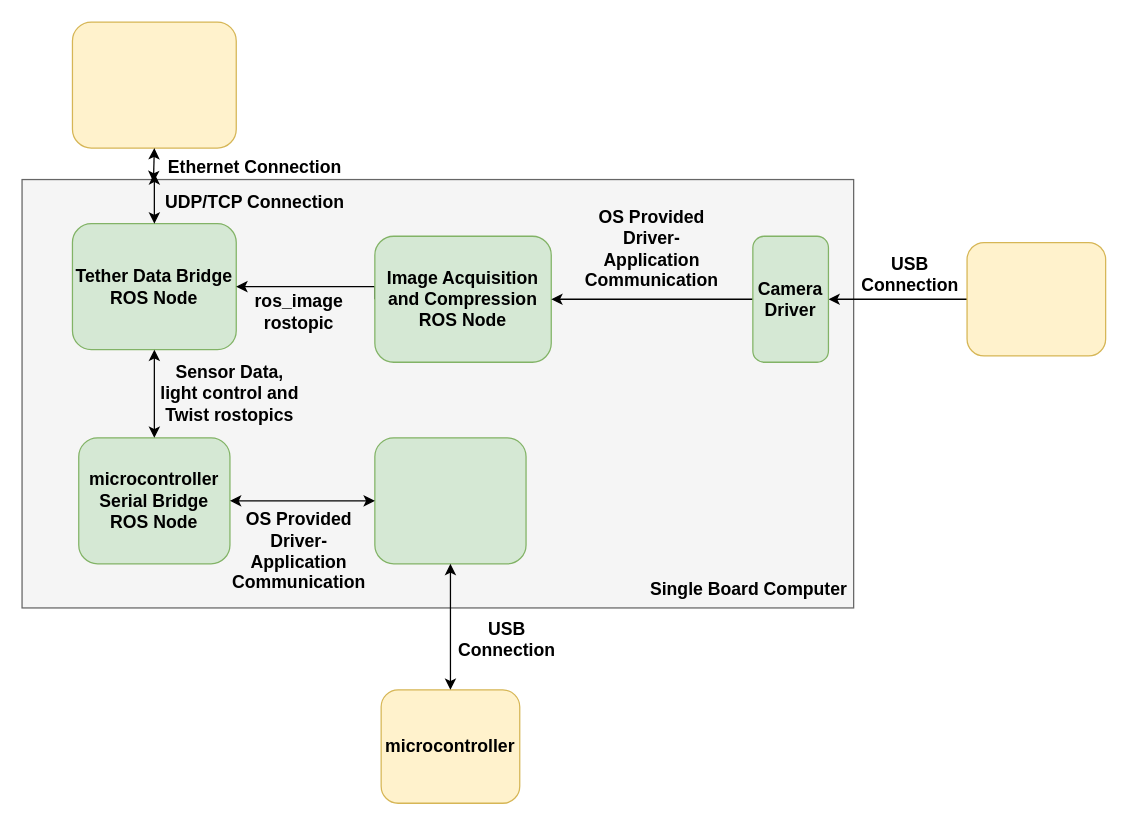
Some shapes in this 1128 by 825 pixel diagram are drawn without their labels. Here are the shapes that lost their labels. From the top down, the centre of each, then its label:
At (153,84): "Tether Interface Board".
At (1036,298): "USB Camera".
At (450,500): "USB Serial Drivers".
